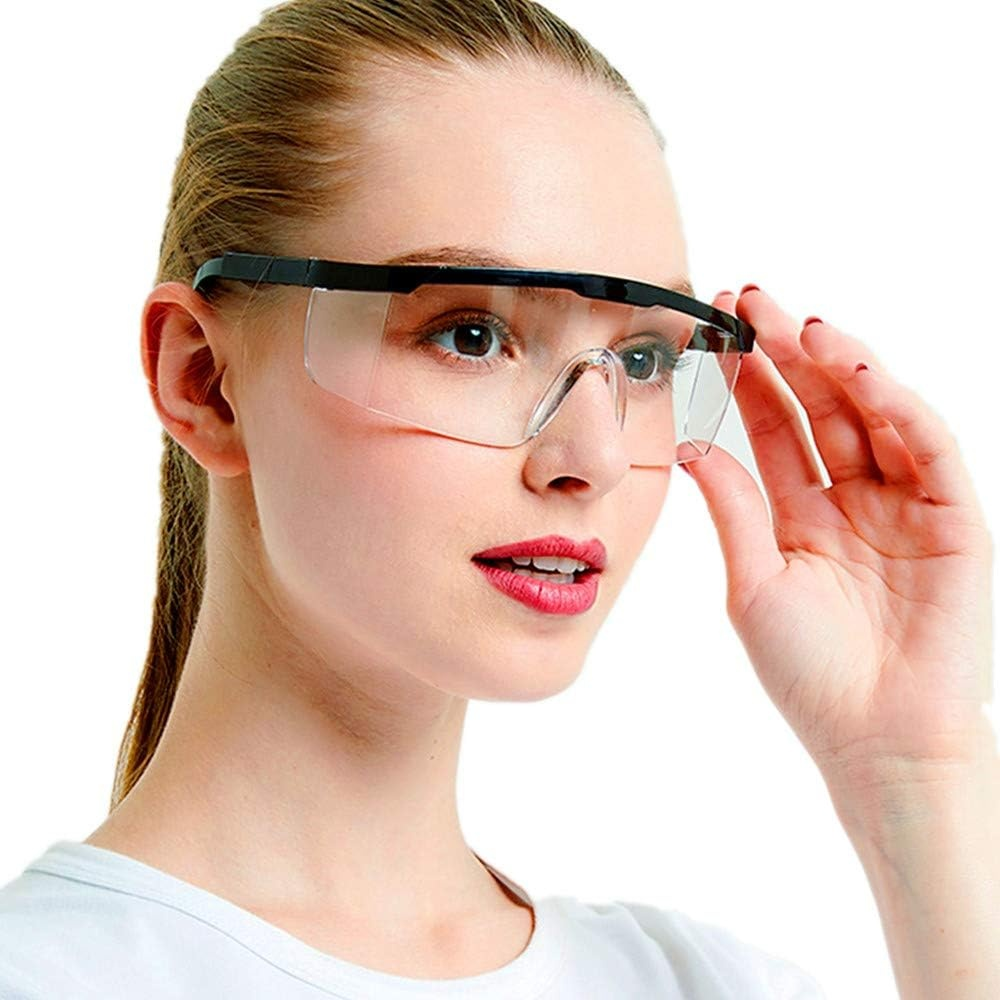safety_goggles: (62, 221, 870, 480)
